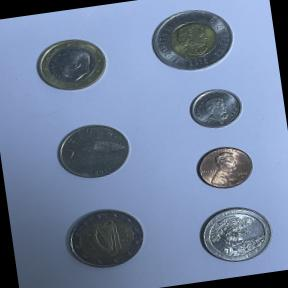coin: (144, 1, 242, 78), (59, 200, 150, 274), (49, 114, 137, 186), (192, 198, 280, 270), (29, 31, 111, 98), (192, 140, 260, 195), (184, 83, 247, 134)
